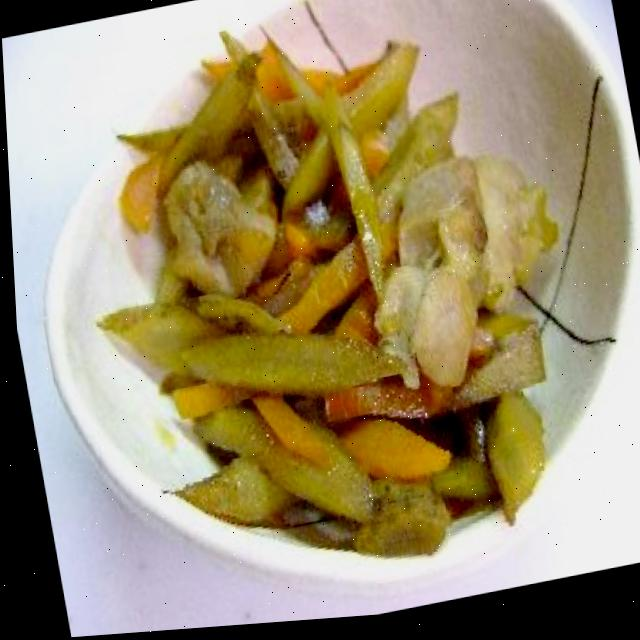蔬菜料理: (16, 0, 640, 634)
